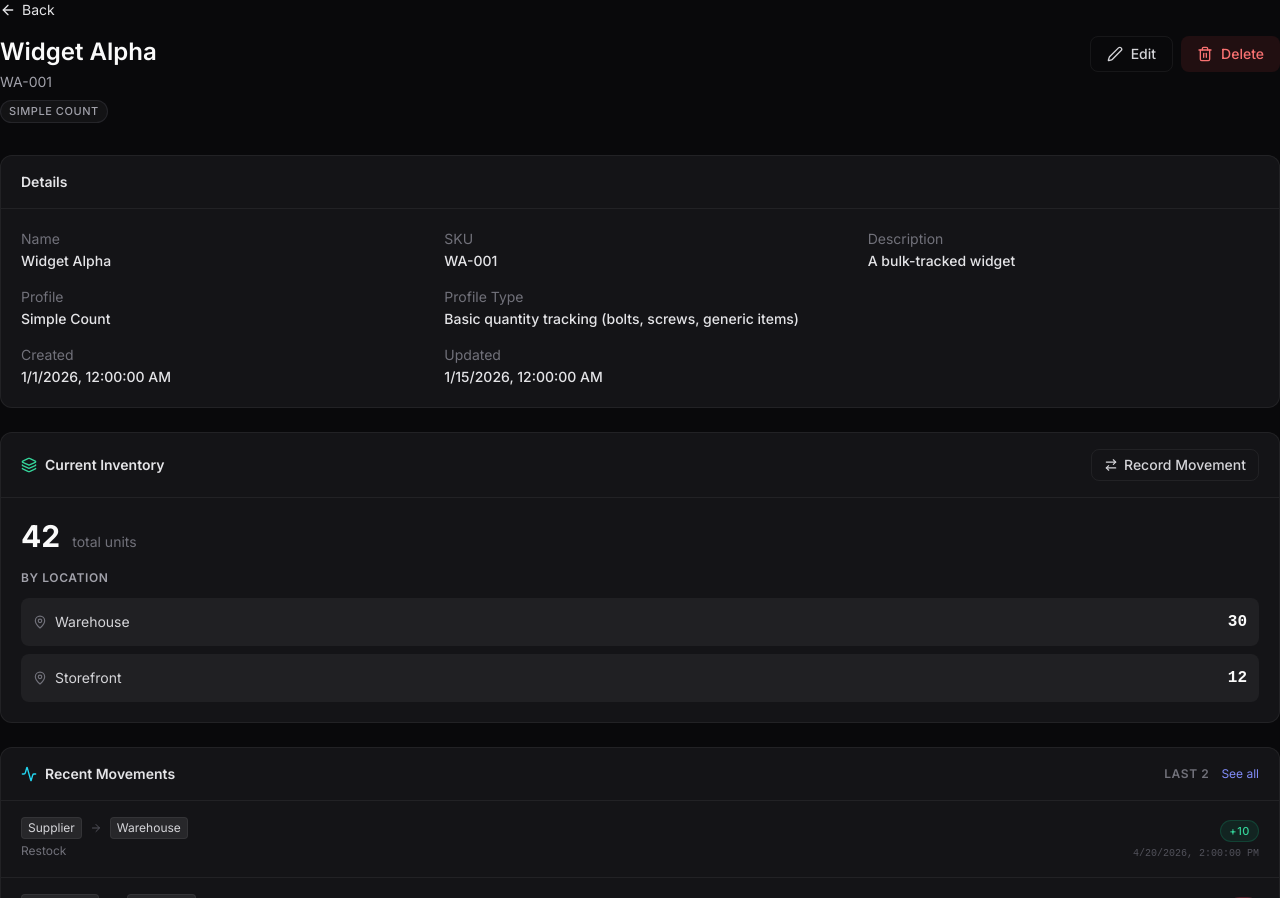
ProductModelShow › shows confirm dialog on Delete click
Click the button "Delete".
click(1231, 54)  # box [1181,36,1279,72]
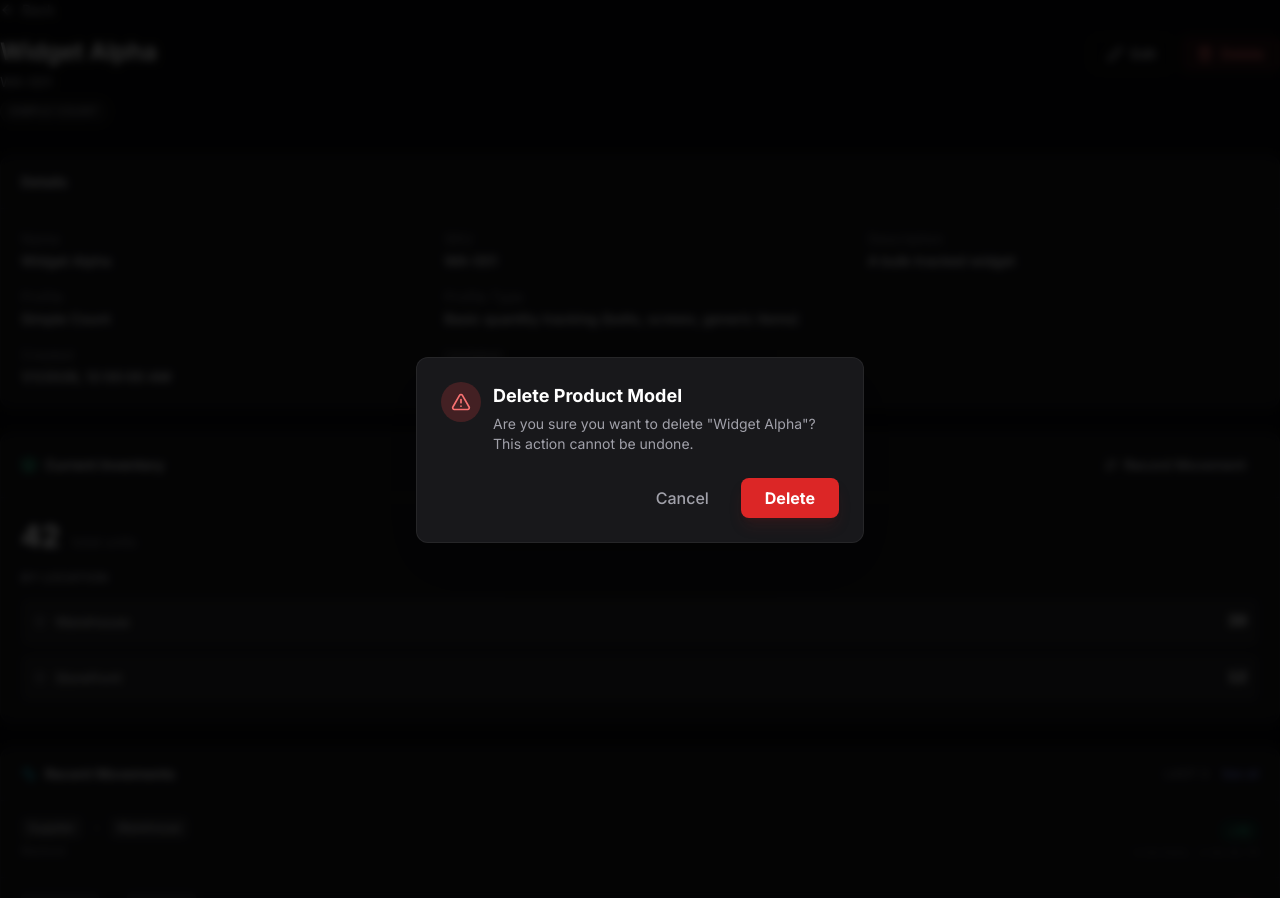
Expected: the heading "Delete Product Model" is shown, [493,385,682,406]
Expected: the element with test id "confirm-dialog" is shown, [416,357,864,543]
